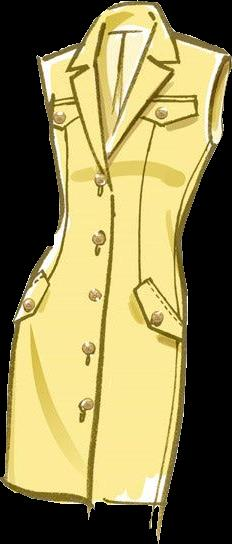Bodice: (36, 1, 231, 223)
Hemline: (0, 477, 167, 506)
Neckline: (87, 4, 160, 150)
Skirt: (0, 224, 187, 506)
